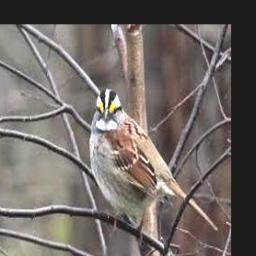Sparrow: (89, 89, 218, 234)
